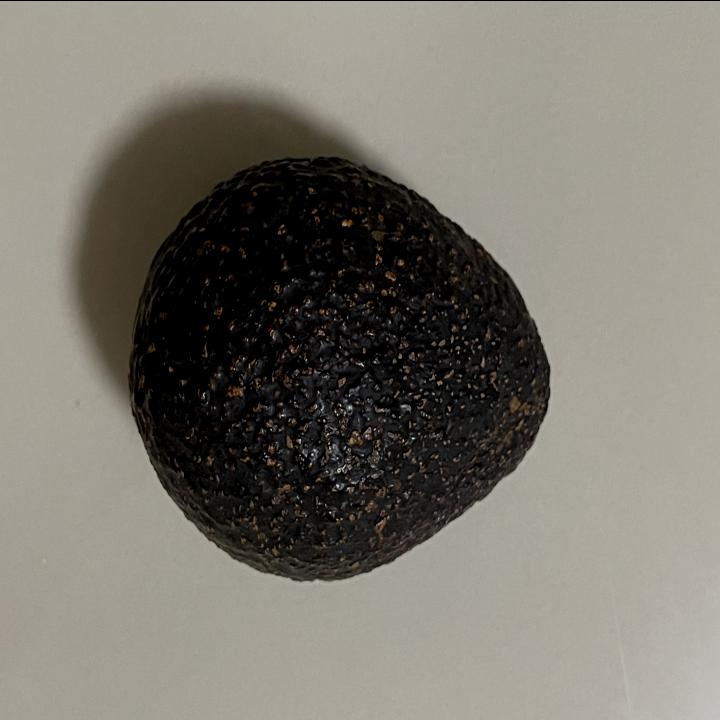Level3: (119, 143, 561, 594)
